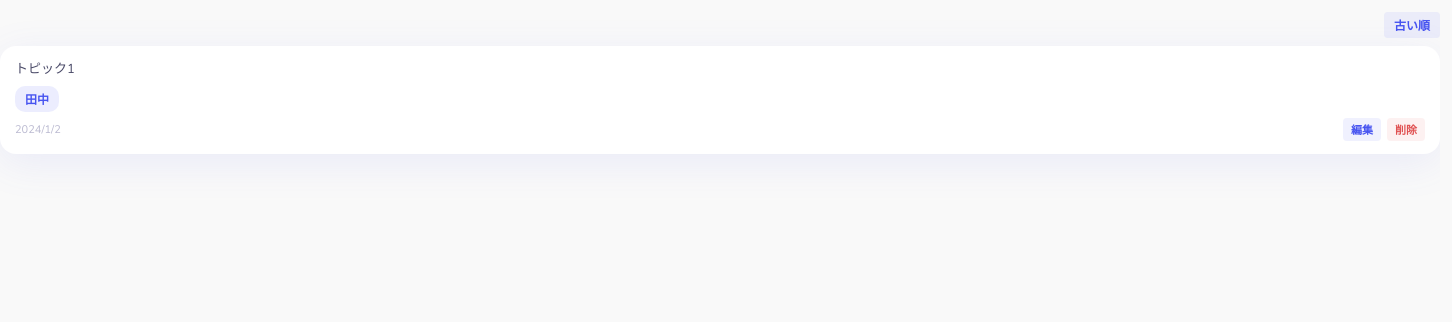
it: TopicList › populates PersonTagInput with the item persons when editing starts
Click the button with class "edit-btn": (1362, 129) [1343,118,1381,141]
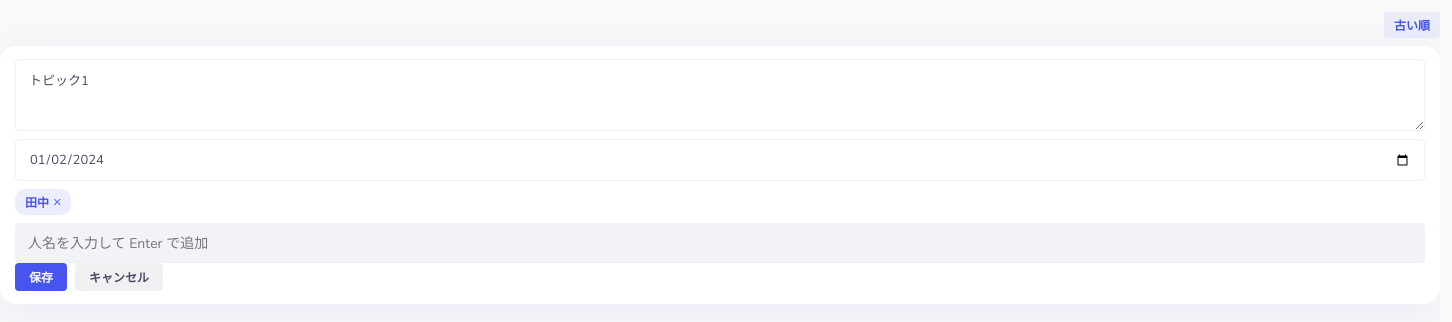
Now the list item with class "tag" shows "田中", box [25,195,49,211]
